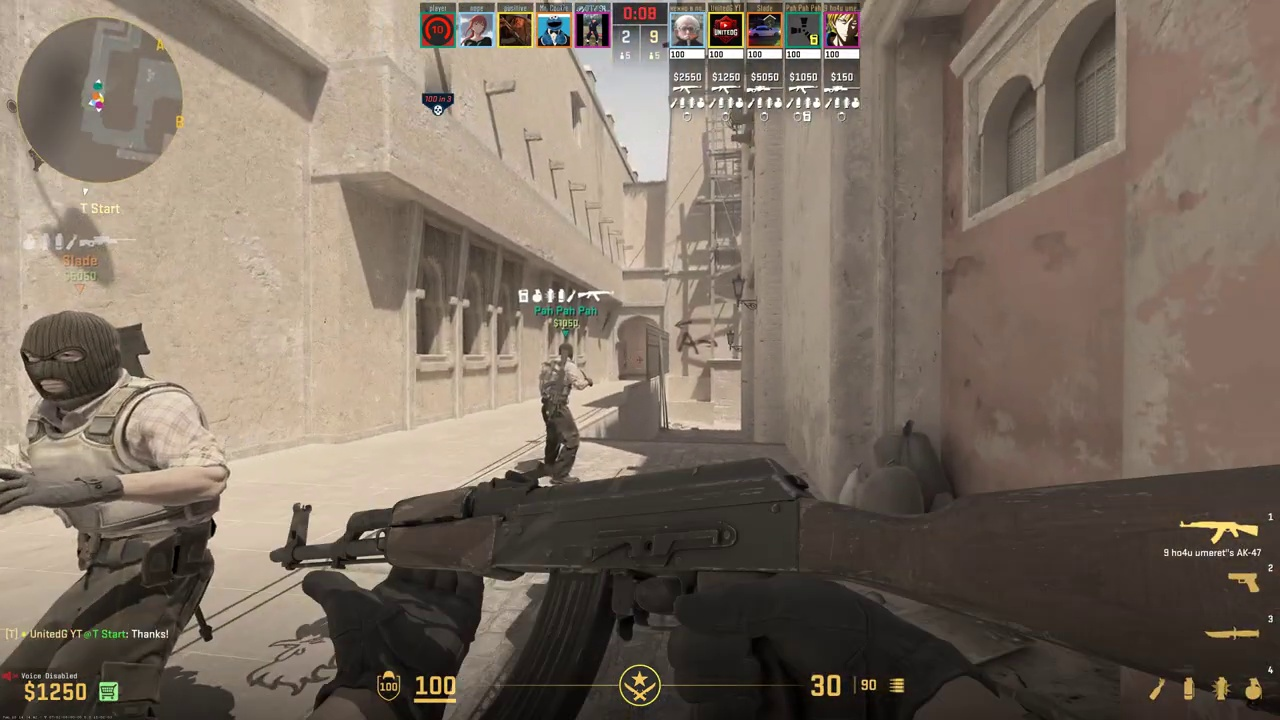Terrorist: (13, 313, 220, 715), (539, 342, 583, 485)
